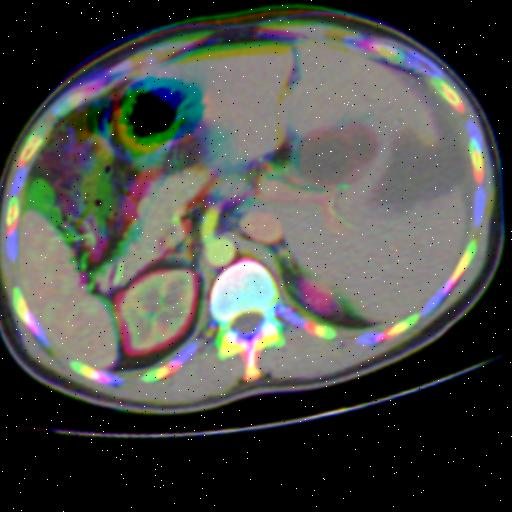Cyst: (366, 139, 466, 220), (300, 130, 377, 193)
